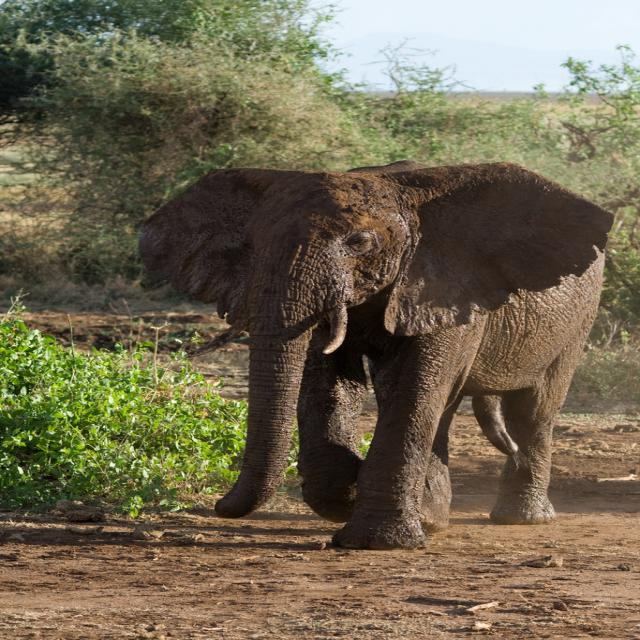Elephant: (134, 158, 618, 548)
